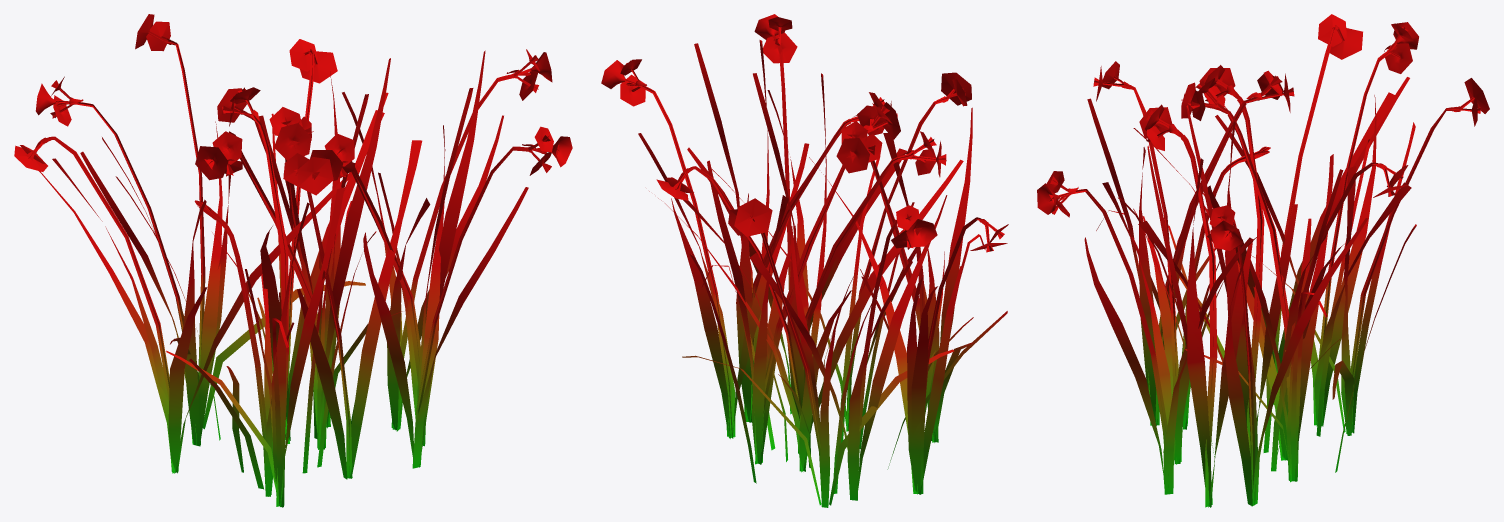
Rendered from Rush Daffodil_LOD4_Var1_wftgfjaia.fbx.
3 views of the same model, side by side, from view 1: azimuth 30°, elevation 25°; view 2: azimuth 150°, elevation 25°; view 3: azimuth 270°, elevation 25° (orthographic). The views are drawn at different scales.
Visible parts, largest first — view 1: _7y0b_var1_LOD4; view 2: _7y0b_var1_LOD4; view 3: _7y0b_var1_LOD4.
Part boxes in pixels (x1,y1,x2,y2): _7y0b_var1_LOD4: (14, 14, 572, 507); _7y0b_var1_LOD4: (601, 14, 1008, 507); _7y0b_var1_LOD4: (1037, 14, 1489, 507).
Bounding box in the file's own units: 46.27 × 35.6 × 38.59.
